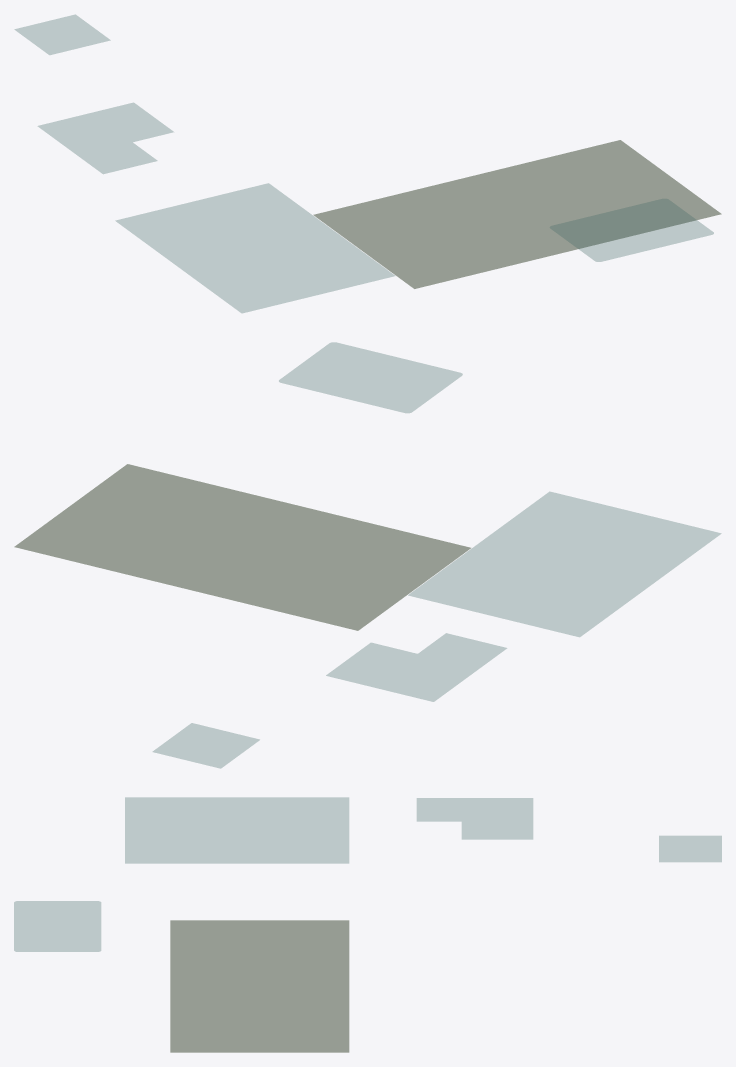
The model's file is sala_acqua.glb.
3 views of the same model, one above another, from view 1: azimuth 30°, elevation 25°; view 2: azimuth 150°, elevation 25°; view 3: azimuth 270°, elevation 25° (orthographic). The views are drawn at different scales.
Parts seen in each view (by area): view 1: sala_pozza, sala_vasca_arrivo_acqua, sala_vasca_centrale_acqua, sala_vasca_bimbi_1_acqua, sala_vasca_bimbi_2_acqua, sala_fossa_bimbi_acqua; view 2: sala_pozza, sala_vasca_arrivo_acqua, sala_vasca_centrale_acqua, sala_vasca_bimbi_1_acqua, sala_vasca_bimbi_2_acqua, sala_fossa_bimbi_acqua; view 3: sala_pozza, sala_vasca_arrivo_acqua, sala_vasca_centrale_acqua, sala_vasca_bimbi_1_acqua, sala_vasca_bimbi_2_acqua, sala_fossa_bimbi_acqua.
Part boxes in pixels (<box>): sala_pozza: <box>314,140,721,288</box>; sala_vasca_arrivo_acqua: <box>116,183,394,312</box>; sala_vasca_centrale_acqua: <box>550,199,713,261</box>; sala_vasca_bimbi_1_acqua: <box>38,103,173,155</box>; sala_vasca_bimbi_2_acqua: <box>15,14,110,54</box>; sala_fossa_bimbi_acqua: <box>79,142,156,173</box>; sala_pozza: <box>14,464,470,630</box>; sala_vasca_arrivo_acqua: <box>408,492,720,636</box>; sala_vasca_centrale_acqua: <box>279,342,462,412</box>; sala_vasca_bimbi_1_acqua: <box>326,643,477,701</box>; sala_vasca_bimbi_2_acqua: <box>153,723,259,768</box>; sala_fossa_bimbi_acqua: <box>418,633,506,668</box>; sala_pozza: <box>170,920,349,1052</box>; sala_vasca_arrivo_acqua: <box>125,797,348,863</box>; sala_vasca_centrale_acqua: <box>14,901,100,951</box>; sala_vasca_bimbi_1_acqua: <box>462,798,532,839</box>; sala_vasca_bimbi_2_acqua: <box>659,836,721,861</box>; sala_fossa_bimbi_acqua: <box>417,798,461,821</box>.
Size of the model in its own units: 22.99 by 2.95 by 31.55.
